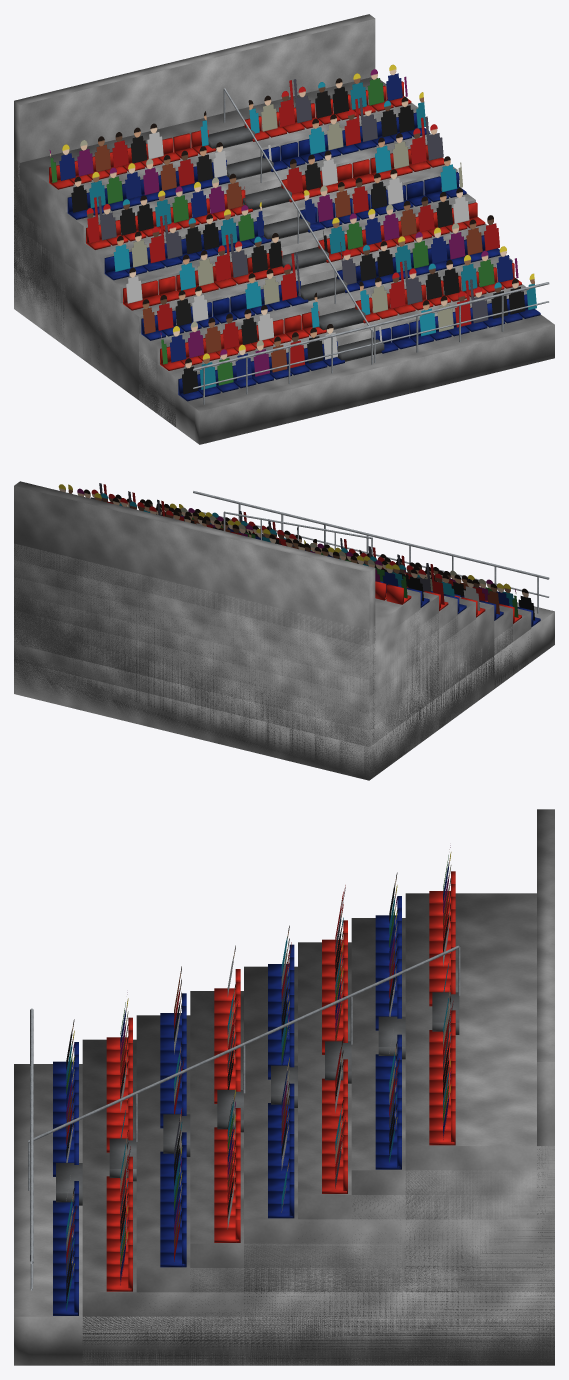
File: bay_10m_crowd.glb
3 renders of one model, top to bottom at view 1: azimuth 30°, elevation 25°; view 2: azimuth 150°, elevation 25°; view 3: azimuth 270°, elevation 25°, orthographic. The views are drawn at different scales.
Parts seen in each view (by area): view 1: bay_10m_crowd; view 2: bay_10m_crowd; view 3: bay_10m_crowd.
Boxes of the visible parts, box(x1,y1,x2,y2) form: bay_10m_crowd: box(14, 14, 554, 444); bay_10m_crowd: box(14, 481, 554, 780); bay_10m_crowd: box(14, 809, 554, 1365).
Bounding box in the file's own units: 10 × 5.6 × 9.05.
Materials: 6 (6 with a texture image).
